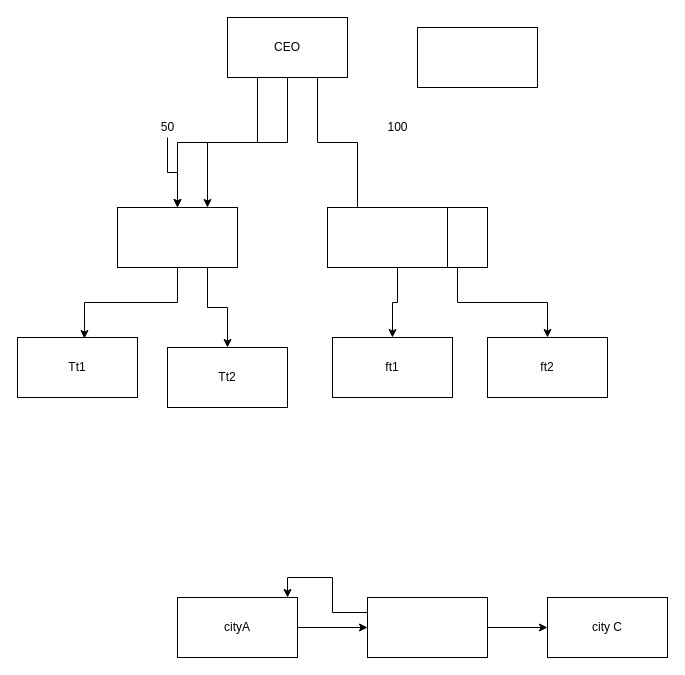
Image size: 685x675. Some labels were removed from this diagram. Each missing label, with the box of its shape:
city B: (366, 596, 488, 658)
CTO: (116, 206, 238, 268)
